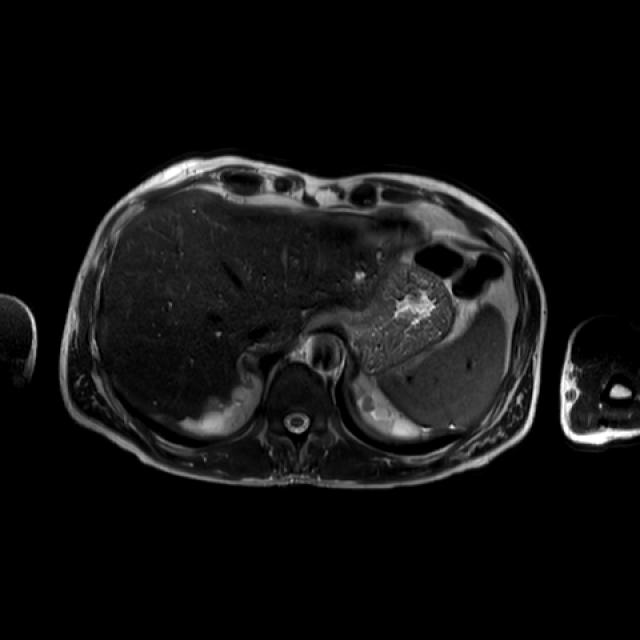sag: (202, 388, 247, 433)
sol: (356, 386, 399, 430)
